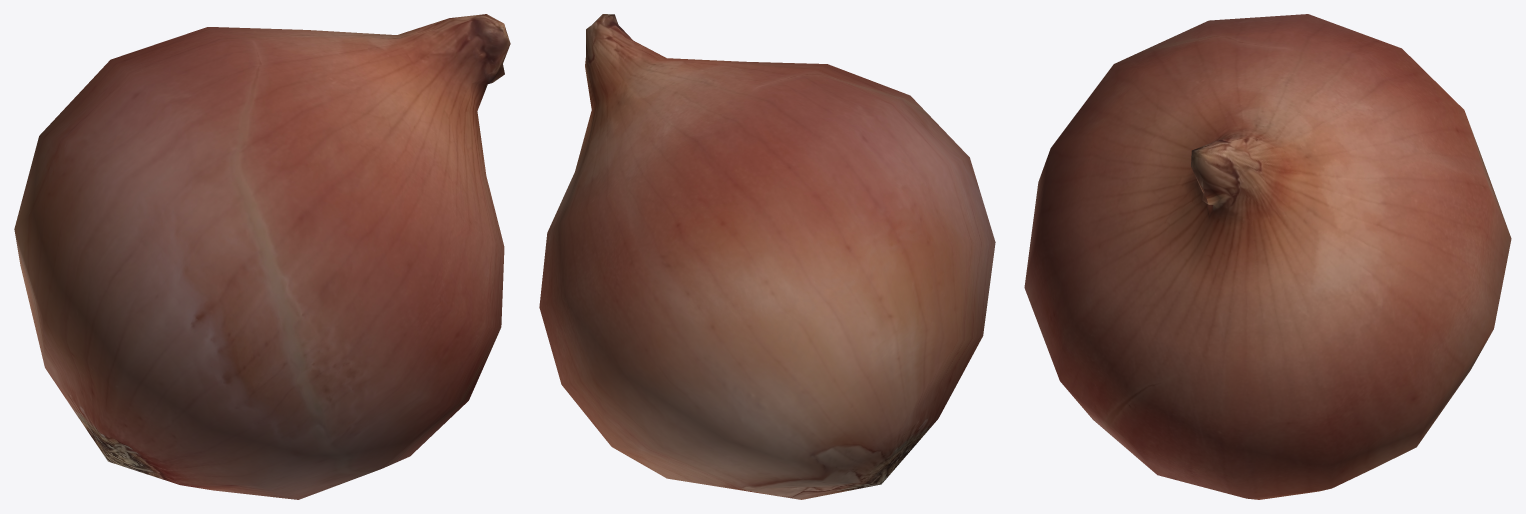
Rendered from A8_Onion_low.fbx.
3 renders of one model, left to right at view 1: azimuth 30°, elevation 25°; view 2: azimuth 150°, elevation 25°; view 3: azimuth 270°, elevation 25°, orthographic. The views are drawn at different scales.
Visible parts, largest first — view 1: A8_Onion_low; view 2: A8_Onion_low; view 3: A8_Onion_low.
Part boxes in pixels (x1,y1,x2,y2): A8_Onion_low: (14,14,510,499); A8_Onion_low: (539,14,995,499); A8_Onion_low: (1024,14,1511,499).
Bounding box in the file's own units: 9.61 × 9.64 × 9.24.
1 material, 1 textured.
